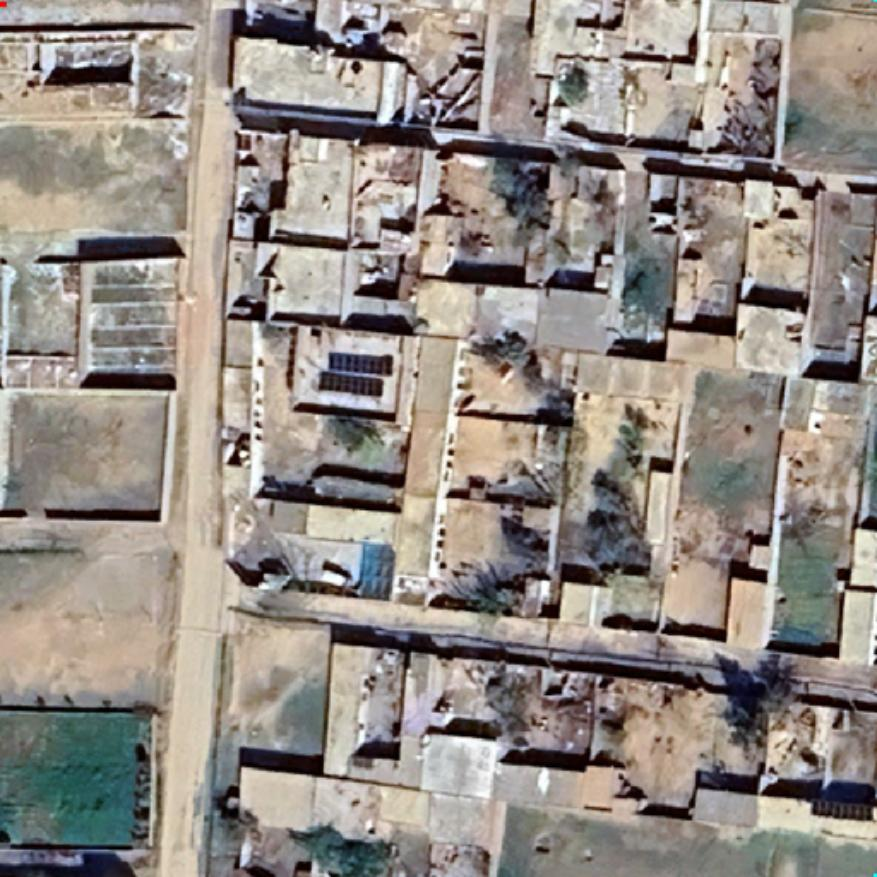Solarpanel: (314, 368, 388, 400), (322, 348, 397, 379)
